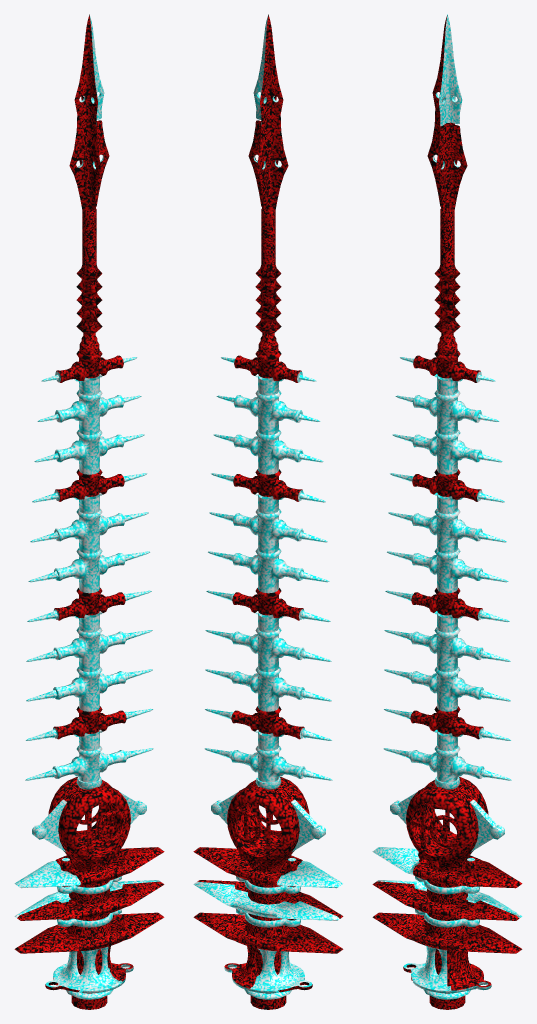
The model's file is SM_RaXaSia_Sword_01_KMH.fbx.
The picture shows the model from 3 angles, left to right: view 1: azimuth 30°, elevation 25°; view 2: azimuth 150°, elevation 25°; view 3: azimuth 330°, elevation 25°; orthographic projection.
Visible parts, largest first — view 1: SM_RaXaSia_Sword_01_KMH; view 2: SM_RaXaSia_Sword_01_KMH; view 3: SM_RaXaSia_Sword_01_KMH.
Boxes of the visible parts, left/top/right/bottom form: SM_RaXaSia_Sword_01_KMH: left=14, top=14, right=164, bottom=1009; SM_RaXaSia_Sword_01_KMH: left=193, top=14, right=343, bottom=1009; SM_RaXaSia_Sword_01_KMH: left=372, top=14, right=522, bottom=1009.
Bounding box in the file's own units: 27.99 × 182 × 12.23.
